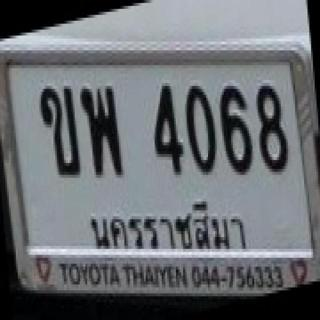A02: (35, 82, 83, 182)
A30: (80, 83, 128, 181)
N00: (182, 80, 221, 178)
N04: (150, 80, 185, 182)
N06: (216, 80, 255, 179)
N08: (253, 82, 293, 175)
P30: (82, 195, 252, 253)
